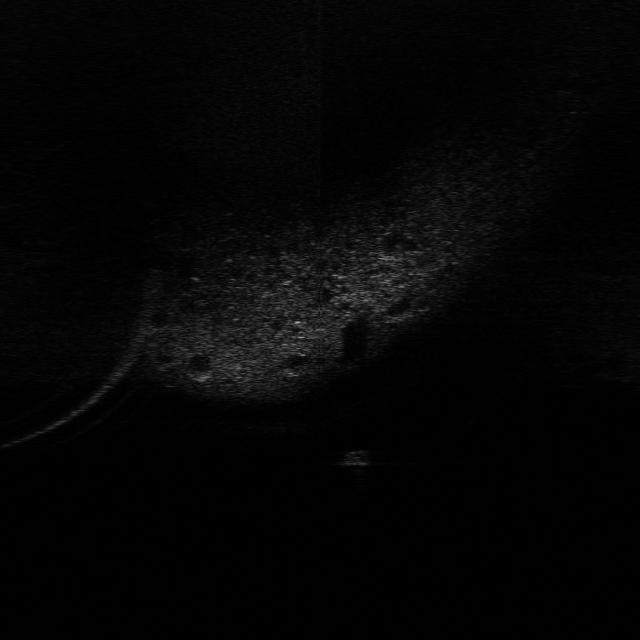cube: (330, 446, 380, 471)
